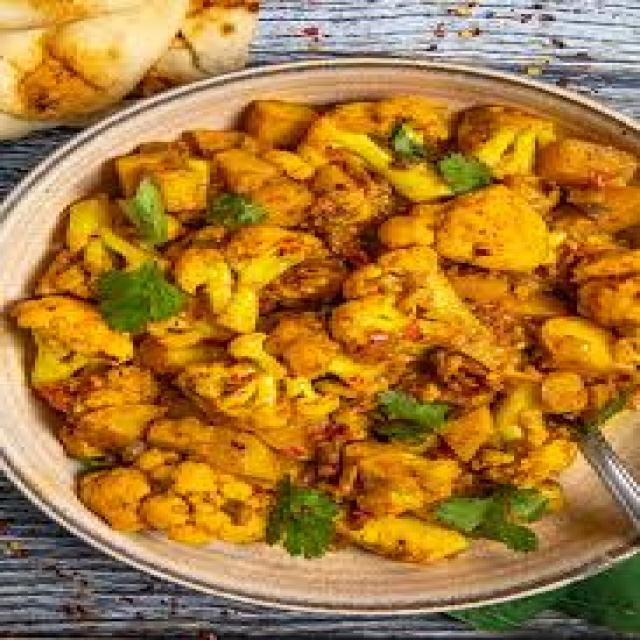Aloo Gobi: (59, 150, 345, 533)
